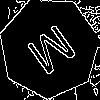M: (24, 23, 85, 85)
